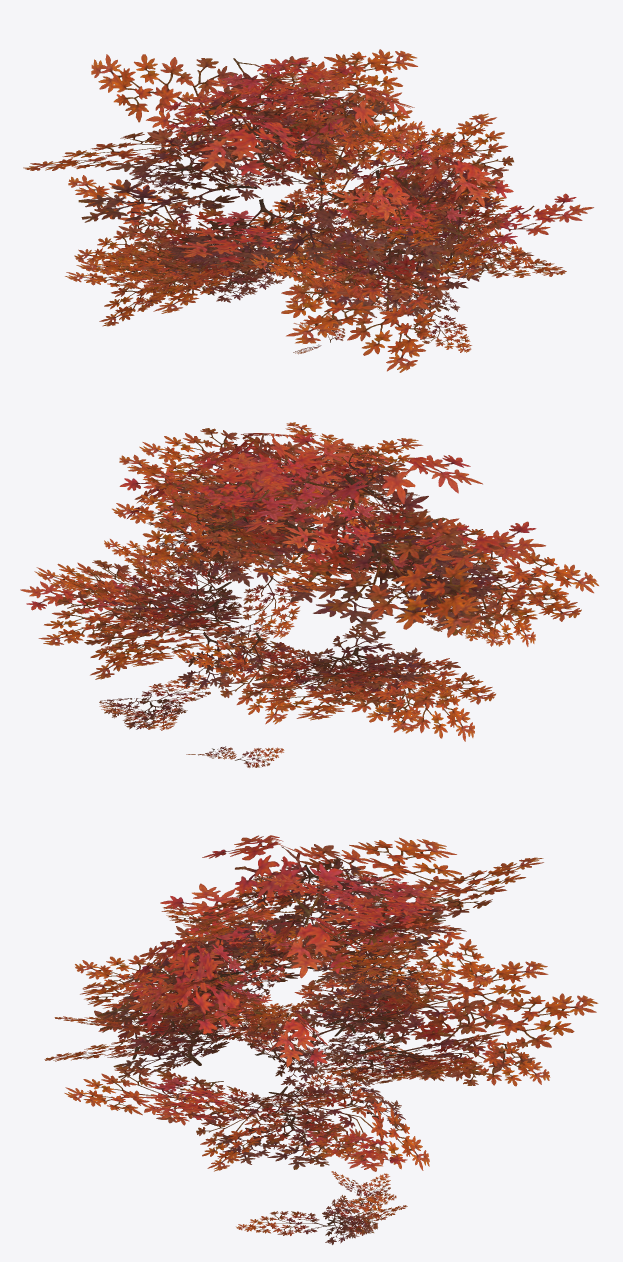
The model's file is Yland1_yz_05 Yland1.FBX.
3 views of the same model, one above another, from view 1: azimuth 30°, elevation 25°; view 2: azimuth 150°, elevation 25°; view 3: azimuth 270°, elevation 25° (orthographic). The views are drawn at different scales.
Visible parts, largest first — view 1: Yland1_yz_05 Yland1; view 2: Yland1_yz_05 Yland1; view 3: Yland1_yz_05 Yland1.
Part boxes in pixels (<box>): Yland1_yz_05 Yland1: <box>23,49,593,372</box>; Yland1_yz_05 Yland1: <box>20,422,598,767</box>; Yland1_yz_05 Yland1: <box>44,835,598,1244</box>.
Size of the model in its own units: 8.03 by 4.45 by 8.08.
